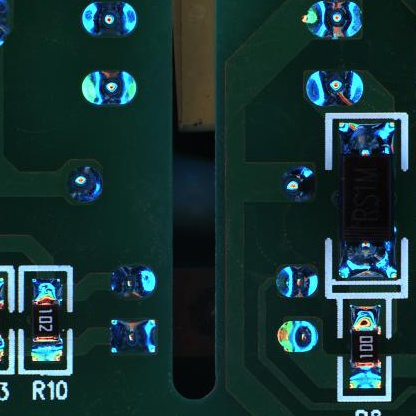spot: (81, 1, 141, 40), (303, 69, 364, 107), (304, 1, 363, 40), (81, 69, 138, 106), (107, 318, 158, 354), (109, 262, 156, 299), (274, 263, 319, 300), (64, 164, 104, 205), (276, 319, 319, 354), (281, 167, 317, 202)
